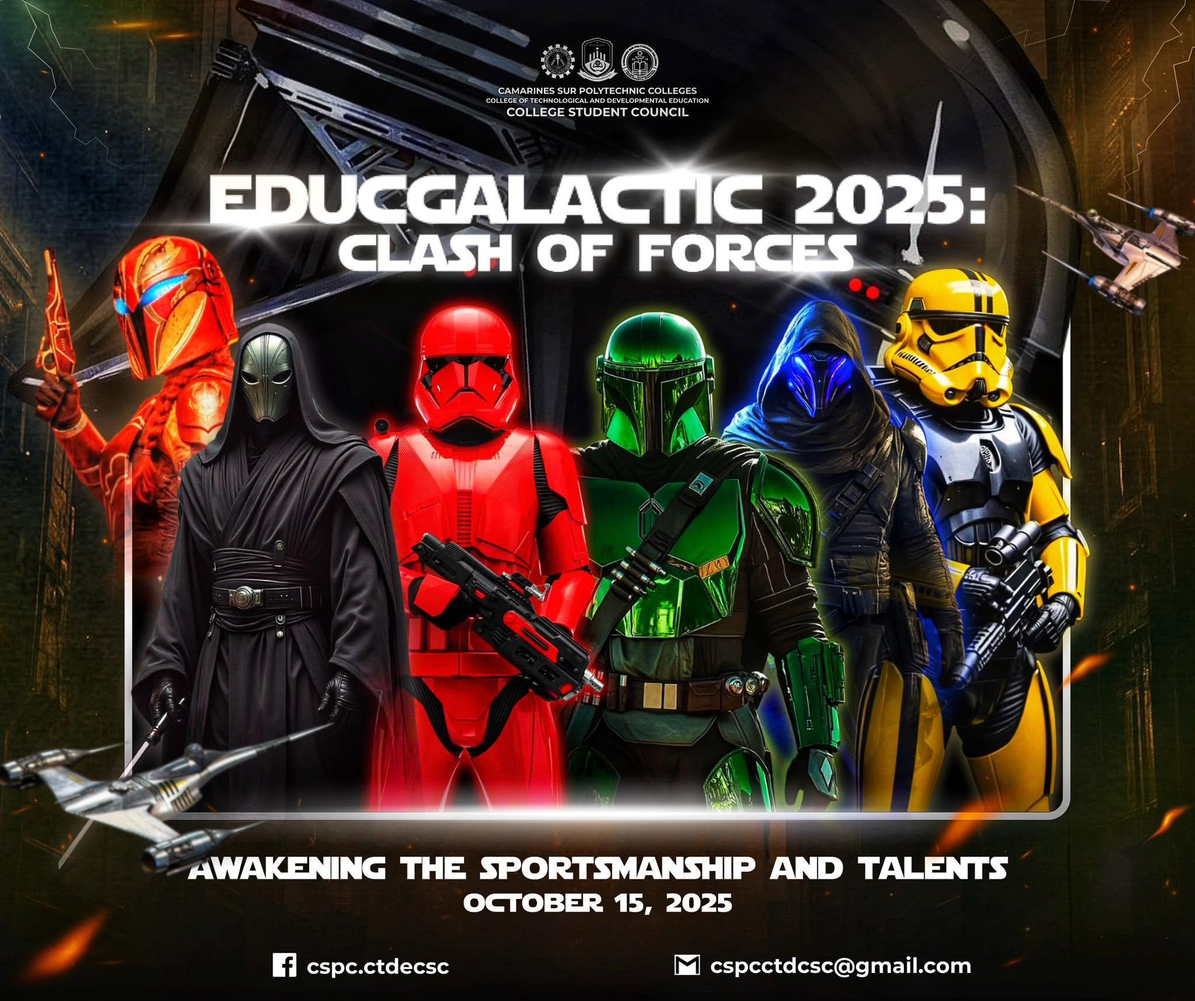embellishment: (117, 304, 1073, 832), (1, 720, 330, 875), (1023, 188, 1195, 317), (673, 952, 701, 978), (271, 952, 299, 978)
logo: (579, 40, 617, 83), (620, 42, 658, 81), (539, 42, 576, 80), (673, 952, 700, 975)
text: (186, 856, 1007, 916), (186, 856, 1007, 915), (209, 174, 987, 230), (338, 232, 855, 274), (709, 949, 970, 978), (487, 85, 710, 117), (307, 954, 449, 978)
